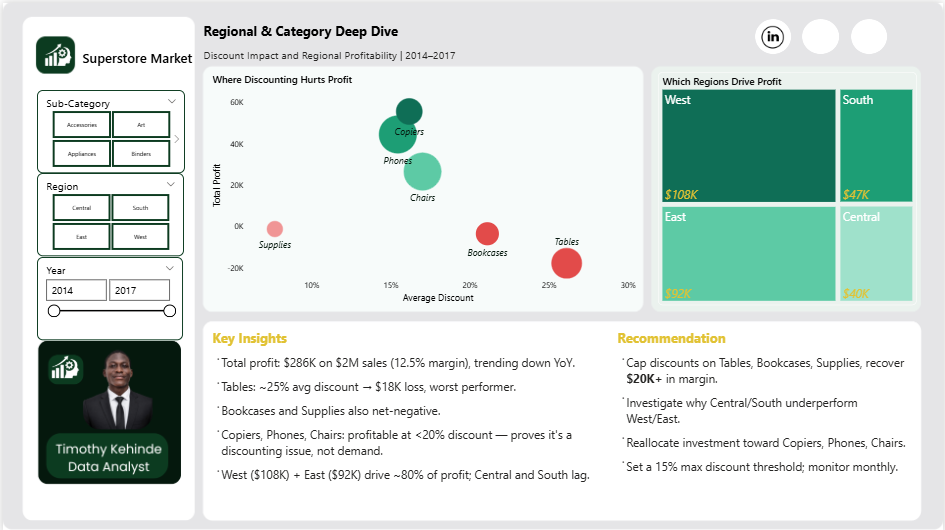

What the dashboard file says about the page in this screenshot:
{"tool":"powerbi","page":{"name":"Regional & Category Deep Dive","canvas":[1920,1080],"ordinal":1},"visuals":[{"type":"textbox","box":[404.3,32.6,1004.3,108.7],"z":0},{"type":"shape","box":[1534.8,32.6,73.9,71.7],"z":0,"group":"g1"},{"type":"shape","box":[1730.5,32.6,73.9,71.7],"z":1000,"group":"g1"},{"type":"slicer","fields":{"Values":["Date.Year"]},"box":[69.6,517.4,297.8,169.6],"z":1000},{"type":"shape","box":[1630.9,33.5,76.1,71.7],"z":2000,"group":"g1"},{"type":"slicer","fields":{"Values":["Sample - Superstore.Region"]},"box":[69.6,347.8,300,169.6],"z":2000},{"type":"image","box":[69.6,71.7,87,69.6],"z":3000},{"type":"image","box":[84.4,708.9,86.7,71.1],"z":4000},{"type":"textbox","box":[156.5,87,247.8,54.3],"z":5000},{"type":"slicer","fields":{"Values":["Sample - Superstore.Sub-Category"]},"box":[69.6,178.3,302.2,169.6],"z":6000},{"type":"group","id":"g1","title":"Group 1","box":[1534.8,32.6,269.6,72.6],"z":7000},{"type":"actionButton","box":[1530.4,30.4,78.3,73.9],"z":8000},{"type":"actionButton","box":[1637,43.5,69.6,56.5],"z":9000},{"type":"actionButton","box":[1730.4,45.7,73.9,50],"z":10000},{"type":"image","box":[1541.3,45.7,60.9,50],"z":11000},{"type":"treemap","title":"Which Regions Drive Profit","fields":{"Group":["Sample - Superstore.Region"],"Values":["Sample - Superstore.Total Profit"]},"box":[1337,141.3,528.3,476.1],"z":12000},{"type":"scatterChart","title":"Where Discounting Hurts Profit","fields":{"X":["Sample - Superstore.Avg Discount"],"Series":["Sample - Superstore.Sub-Category"],"Y":["Sample - Superstore.Total Profit"],"Size":["Sample - Superstore.Total Sales"]},"box":[422,140,874,478],"z":13000},{"type":"textbox","box":[422,660,812,382],"z":14000},{"type":"textbox","box":[1248,660,616,392],"z":15000}]}

Visuals, with their boxes in screenshot pixels (x1, y1, x2, y2), scaled from the page's 1920x1080 canvas onto the 945x530 screenshot:
textbox: <box>199,16,693,69</box>
shape: <box>755,16,792,51</box>
shape: <box>852,16,888,51</box>
slicer - Date.Year: <box>34,254,181,337</box>
shape: <box>803,16,840,52</box>
slicer - Sample - Superstore.Region: <box>34,171,182,254</box>
image: <box>34,35,77,69</box>
image: <box>42,348,84,383</box>
textbox: <box>77,43,199,69</box>
slicer - Sample - Superstore.Sub-Category: <box>34,87,183,171</box>
"Group 1" group: <box>755,16,888,52</box>
actionButton: <box>753,15,792,51</box>
actionButton: <box>806,21,840,49</box>
actionButton: <box>852,22,888,47</box>
image: <box>759,22,789,47</box>
"Which Regions Drive Profit" treemap: <box>658,69,918,303</box>
"Where Discounting Hurts Profit" scatterChart: <box>208,69,638,303</box>
textbox: <box>208,324,607,511</box>
textbox: <box>614,324,917,516</box>
